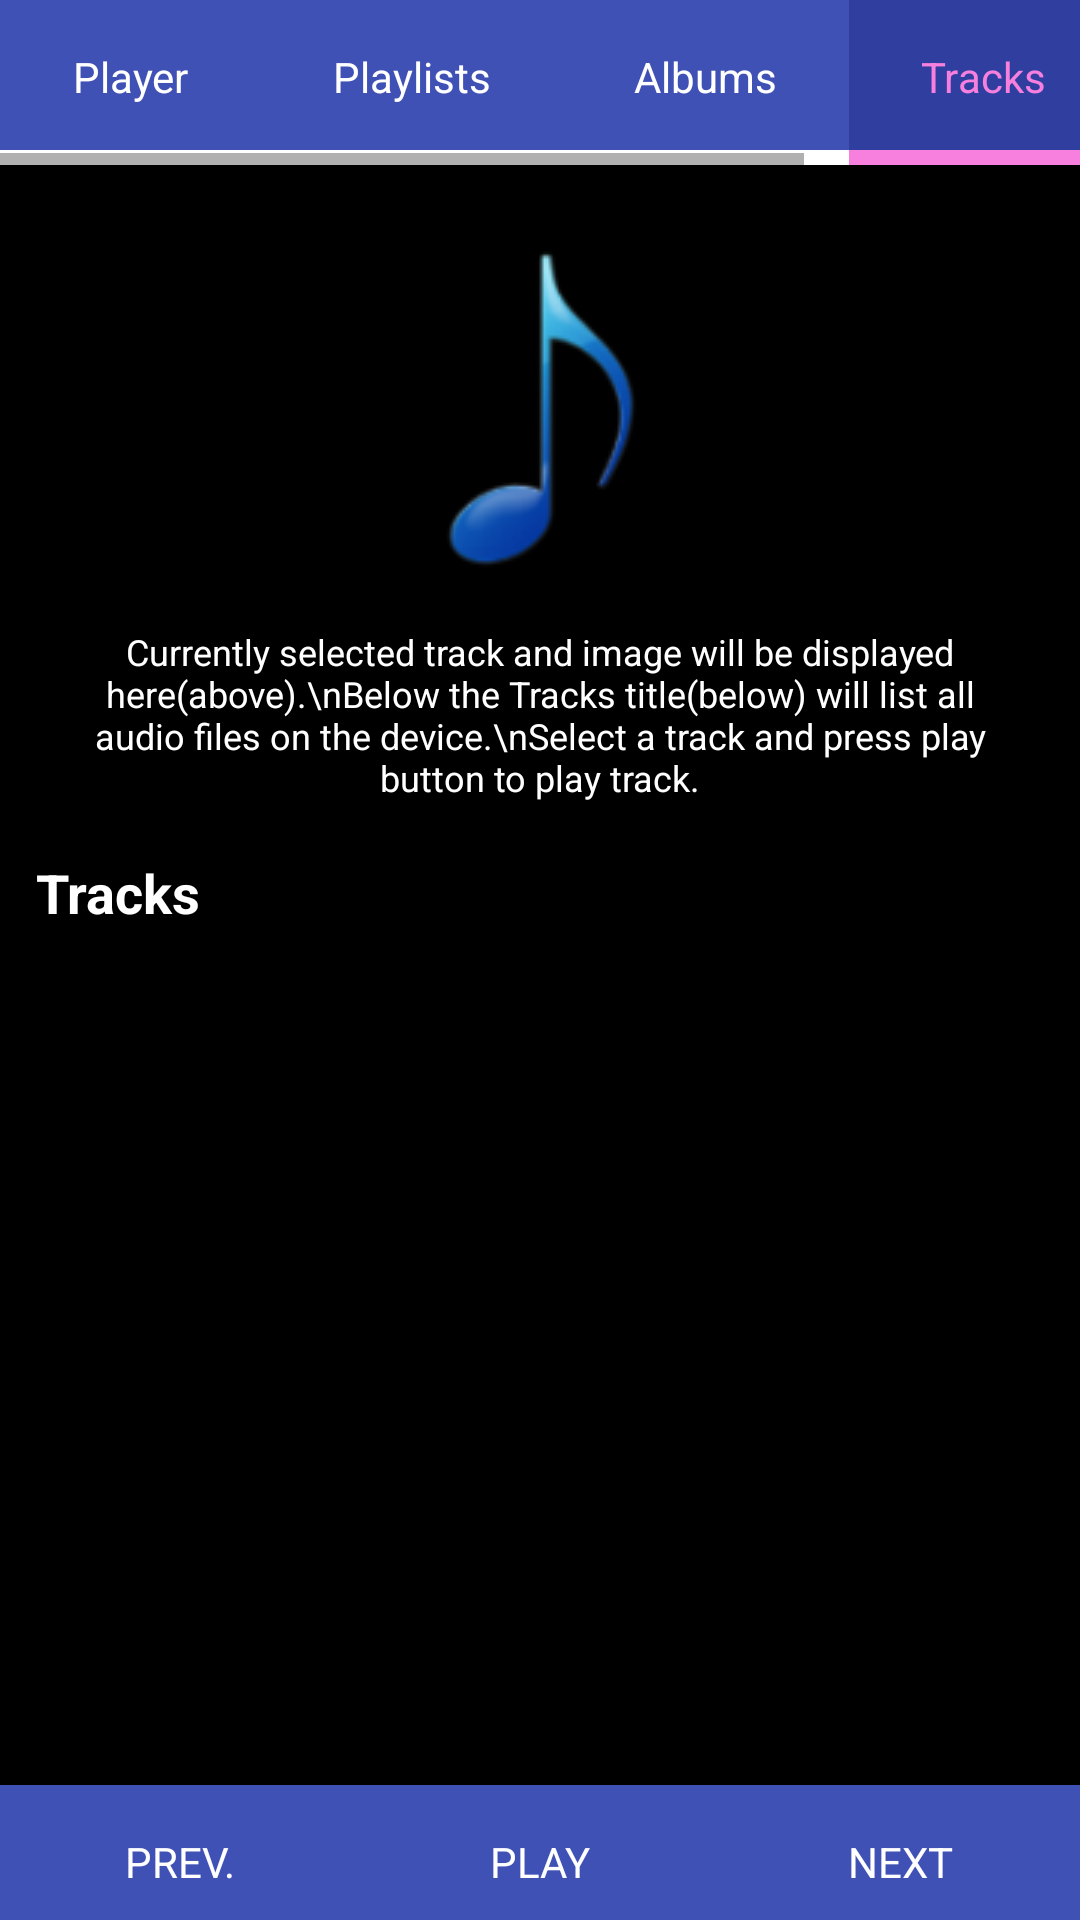

Where icons sit on this 1080*1920 app screen, as {"left": x1, "top": y1, "right": x2, "bottom": y2}:
note medium: {"left": 449, "top": 254, "right": 634, "bottom": 565}
